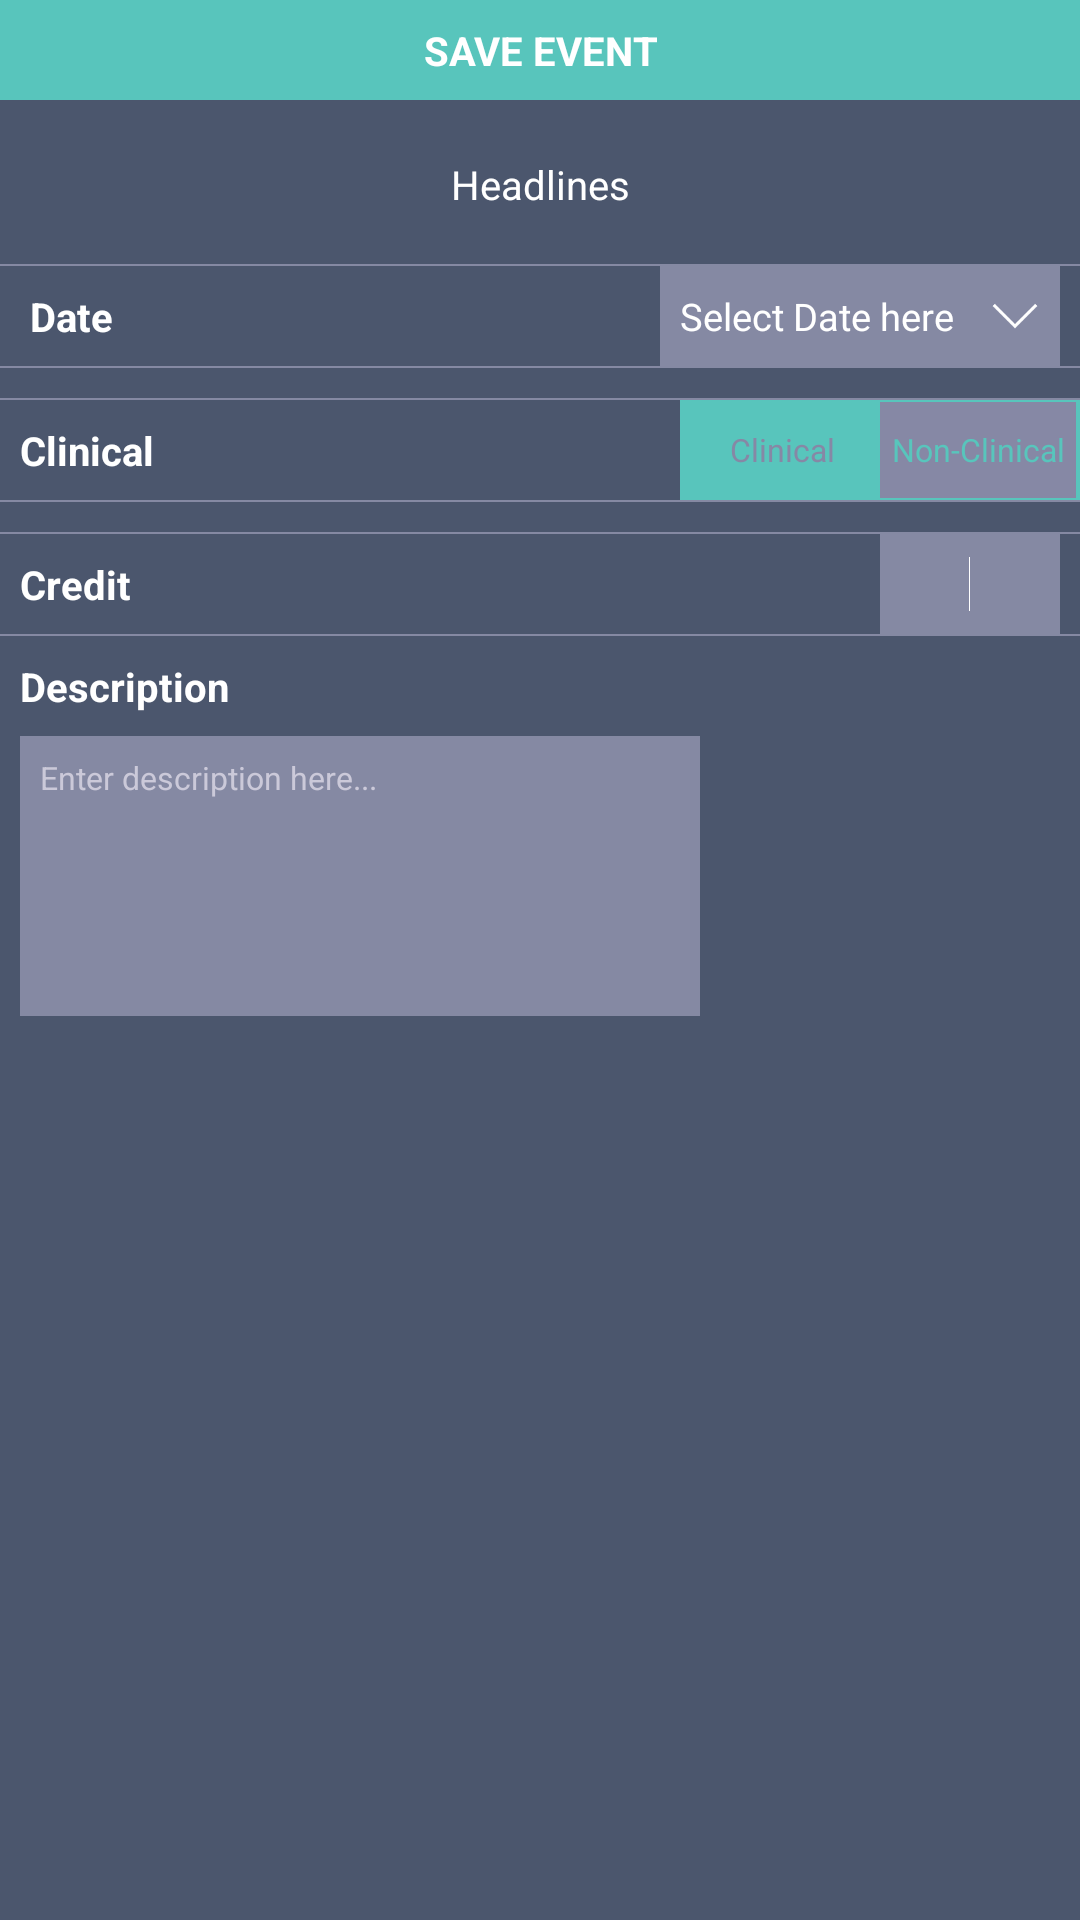

Where to tap for icons on this 1080px×1920px app screen, as [x,y]:
down: [1015,316]
